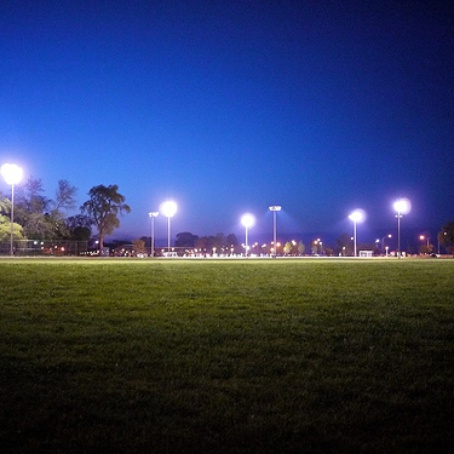grass: (1, 260, 454, 454)
light pole: (1, 162, 25, 259), (158, 194, 182, 259), (393, 195, 416, 255), (237, 206, 257, 256), (345, 205, 365, 255)
sky: (1, 1, 441, 214)
tree: (76, 186, 130, 258)
